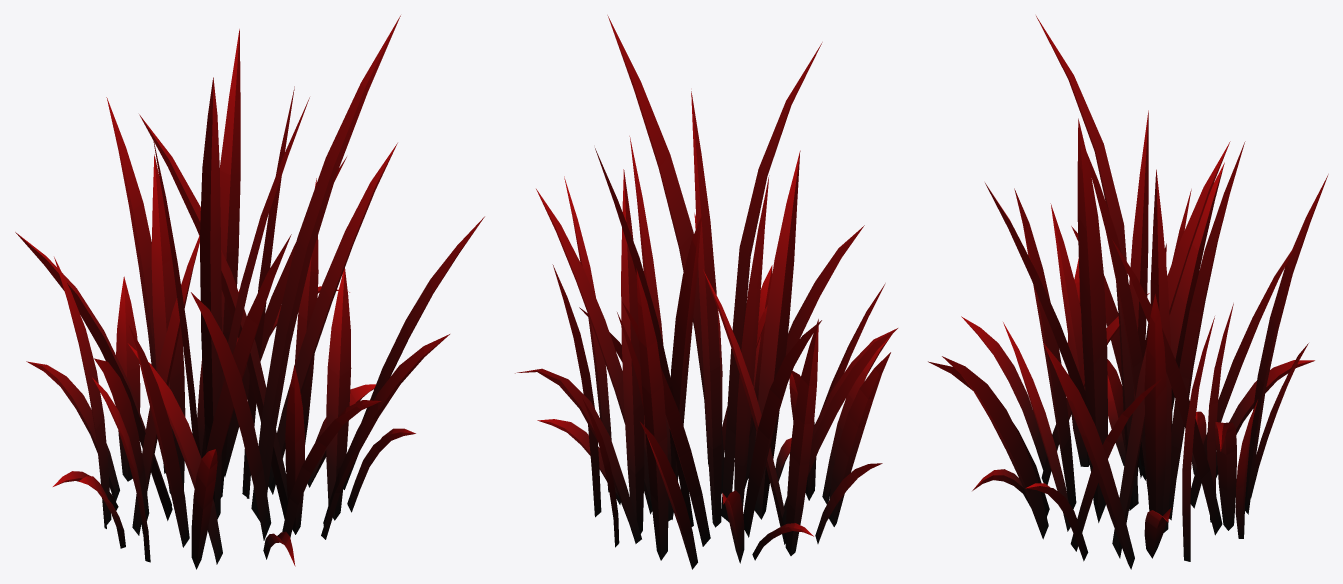
File: TallGrassLOD0.fbx
3 views of the same model, side by side, from view 1: azimuth 30°, elevation 25°; view 2: azimuth 150°, elevation 25°; view 3: azimuth 270°, elevation 25° (orthographic). The views are drawn at different scales.
Parts seen in each view (by area): view 1: TallGrassLOD0; view 2: TallGrassLOD0; view 3: TallGrassLOD0.
Boxes of the visible parts, bbox=[...] form: TallGrassLOD0: bbox=[15, 15, 484, 569]; TallGrassLOD0: bbox=[515, 15, 897, 569]; TallGrassLOD0: bbox=[928, 16, 1328, 569].
Bounding box in the file's own units: 329 × 429 × 319.
